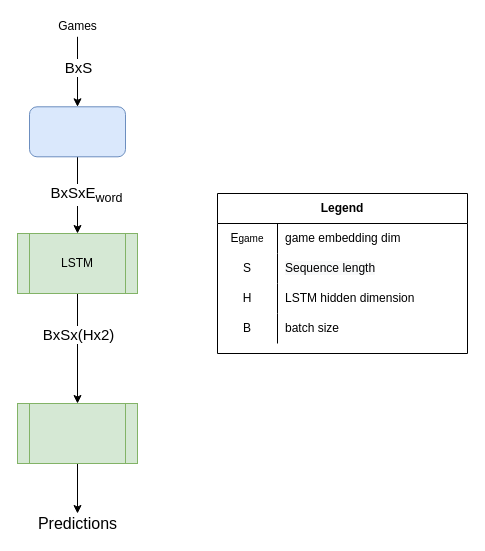
Some shapes in this 485 by 551 pixel diagram are drawn without their labels. Each missing label, with the centre of its shape:
"Embedding layer" belongs at (x=77, y=131).
"MLP" belongs at (x=77, y=433).
